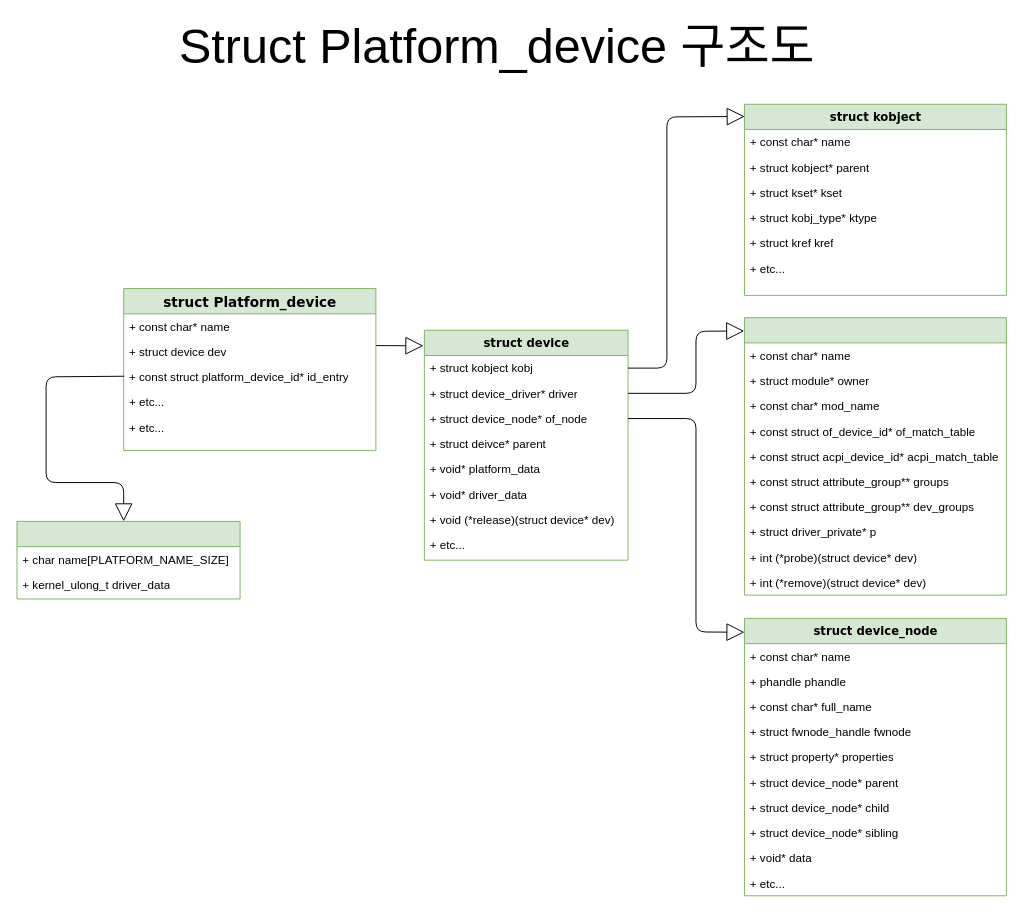
Image size: 1023x915. Some labels were removed from this diagram. The box of each missing label's shape, as (x1, y1, x2, y2) in pixels:
struct device_driver: (744, 317, 1006, 595)
struct platform-device_id: (16, 520, 240, 599)
